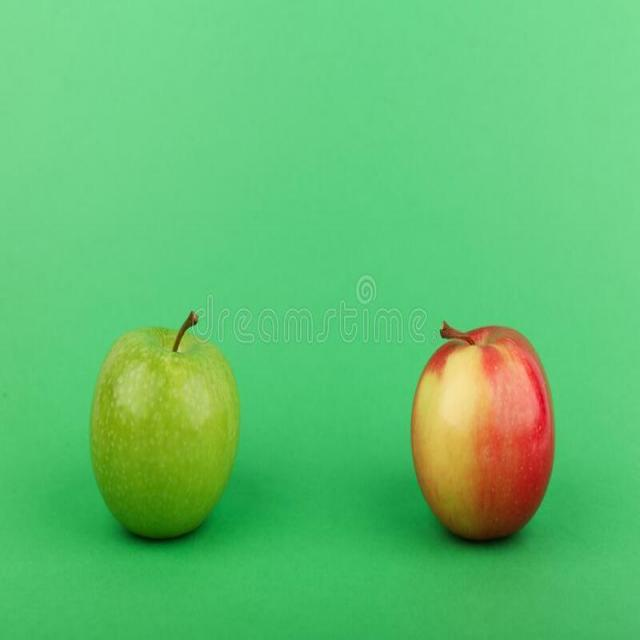Fresh Apple: (397, 320, 565, 555), (87, 303, 243, 555)
